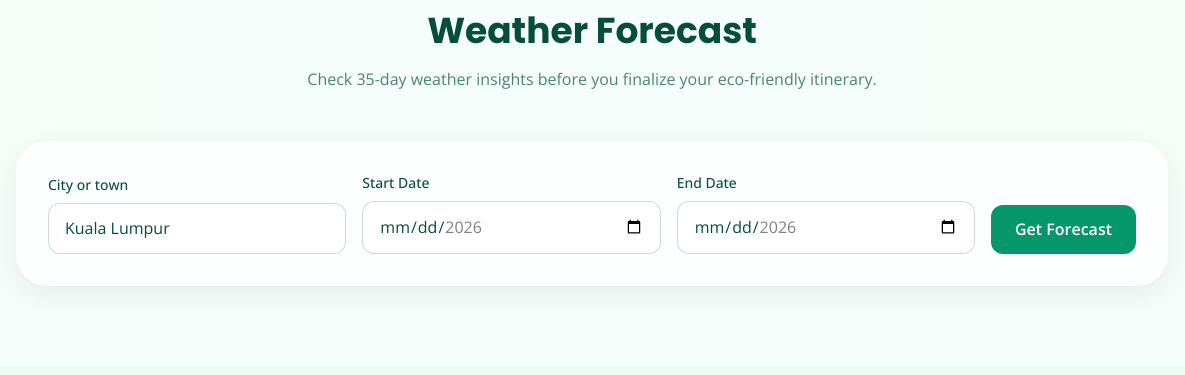
Test: WeatherForecastSection › renders API errors from failed forecast responses
Replace the text in the field labelled "City or town" with "Kyoto" at (197, 228), box [48,203,346,254]
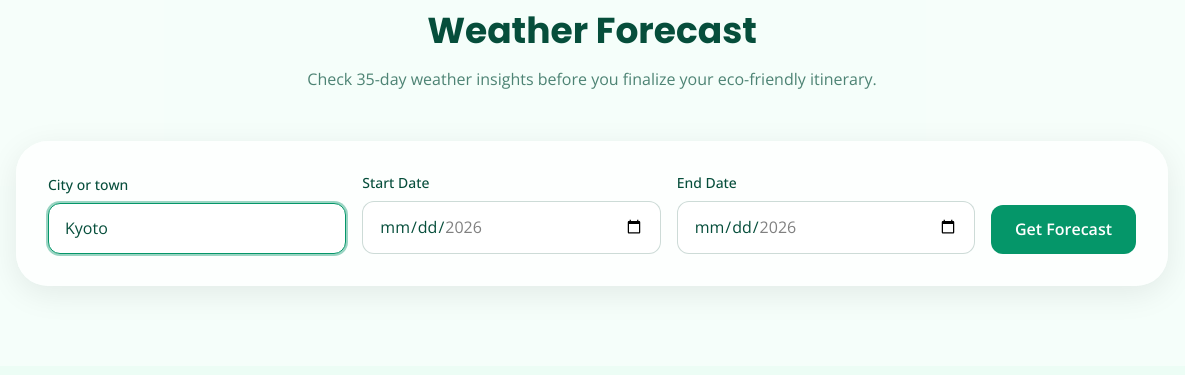
Click the button "Get Forecast" at (1063, 229), box [991,205,1136,254]
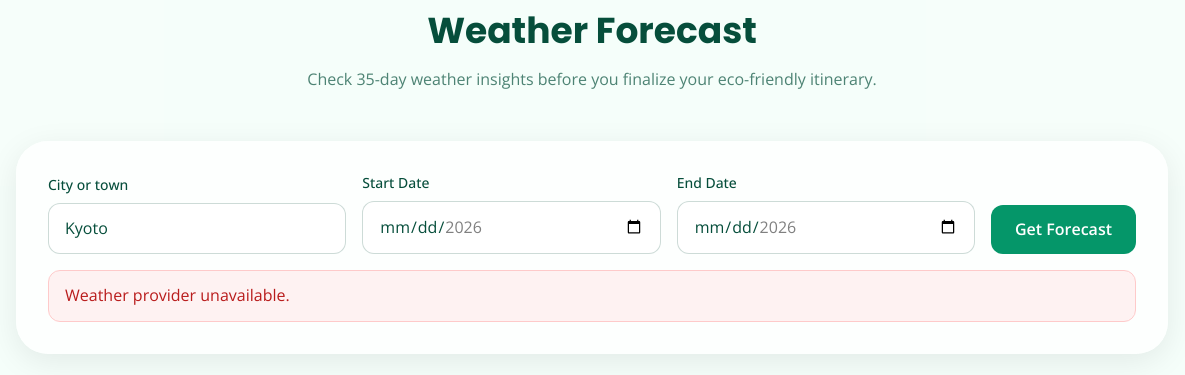
Check: the text "Weather provider unavailable." is shown, box [48,270,1136,322]
